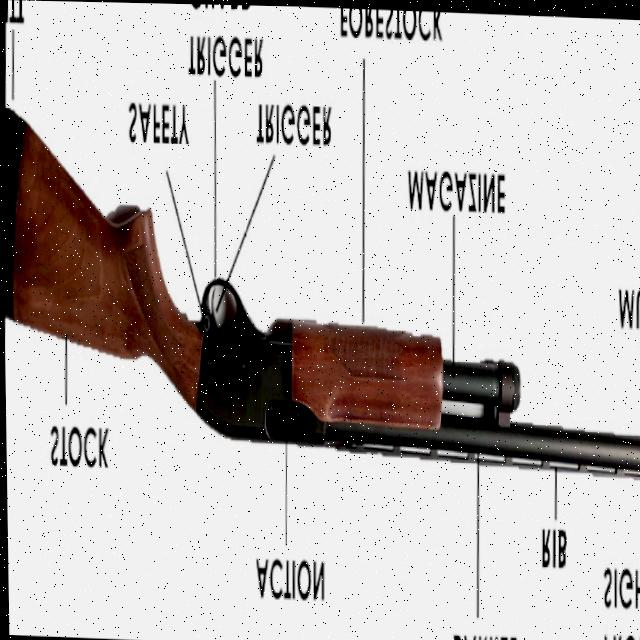firearm: (1, 104, 640, 484)
